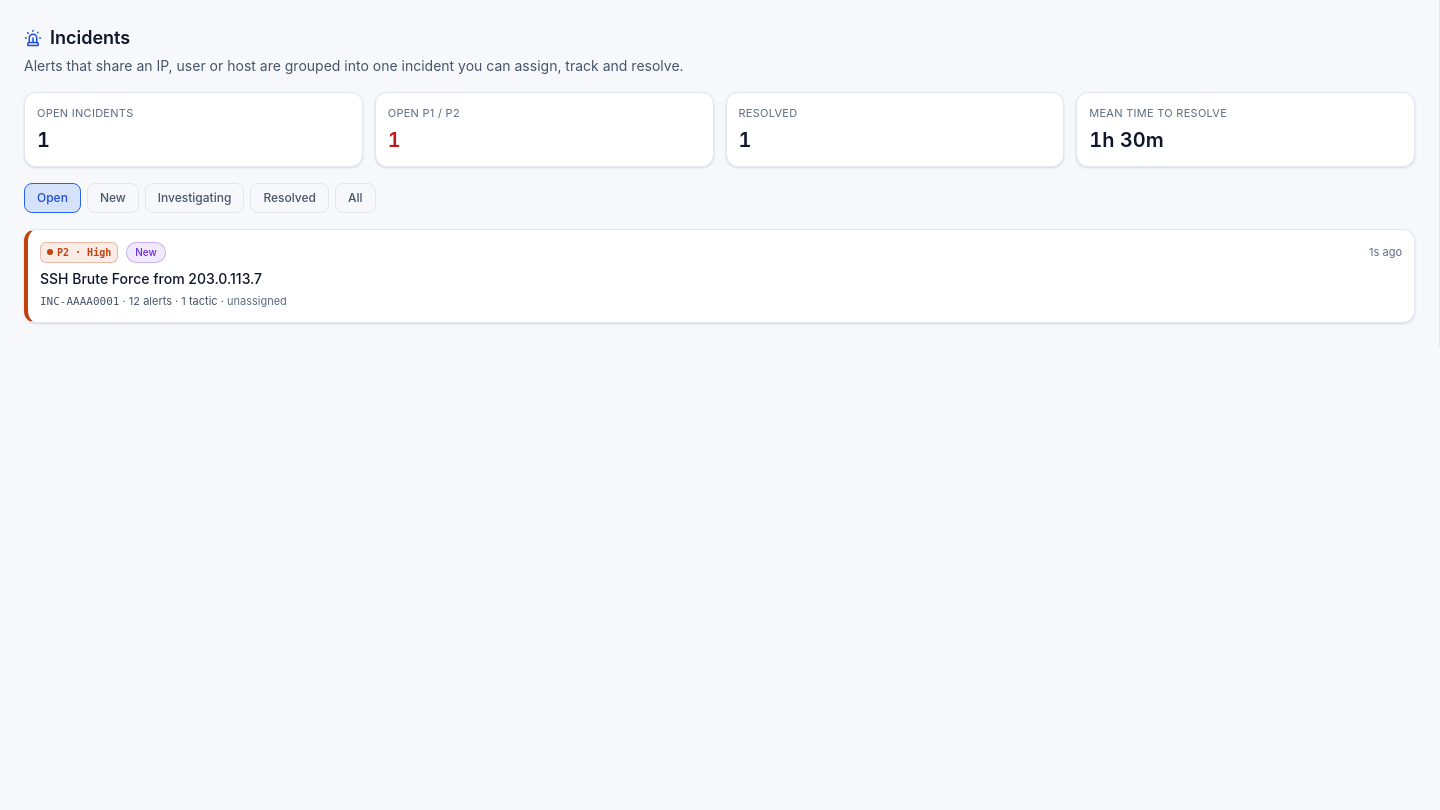
Test: Incident detail for viewers › hides every write control
Click the text "SSH Brute Force from 203.0.113.7".
click(151, 278)  # box [40,270,262,286]
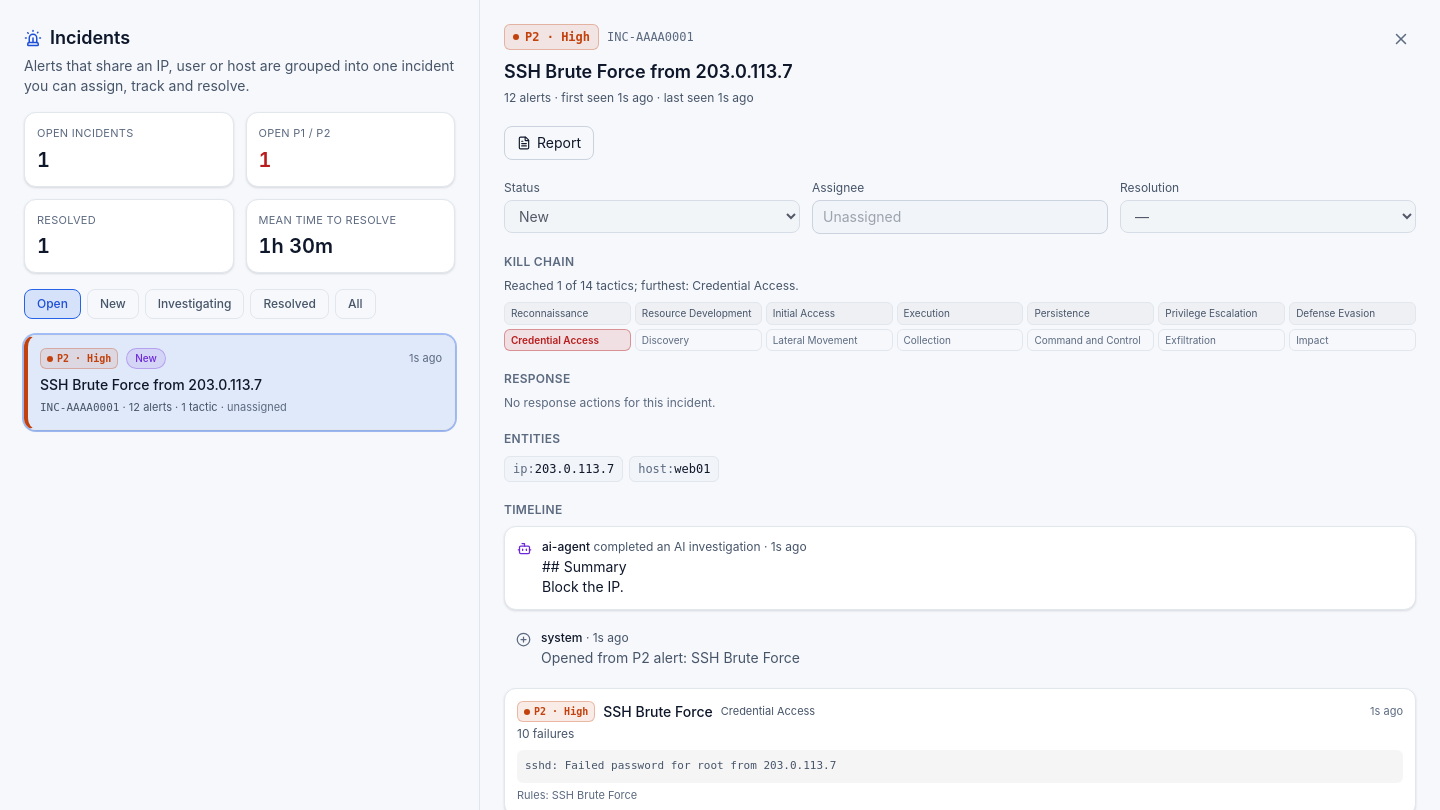
Result: the heading "SSH Brute Force from 203.0.113.7" is shown at [504,61,792,82]
Result: the dropdown labelled "Status" is disabled at [504,200,800,233]
Result: the button "Report" is shown at [504,126,594,160]
